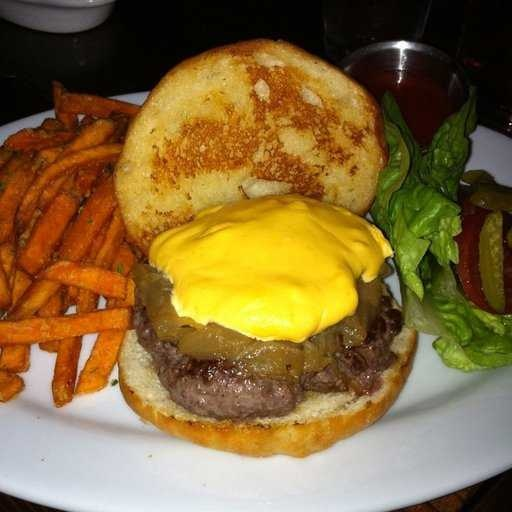hamburger: (85, 124, 431, 451)
